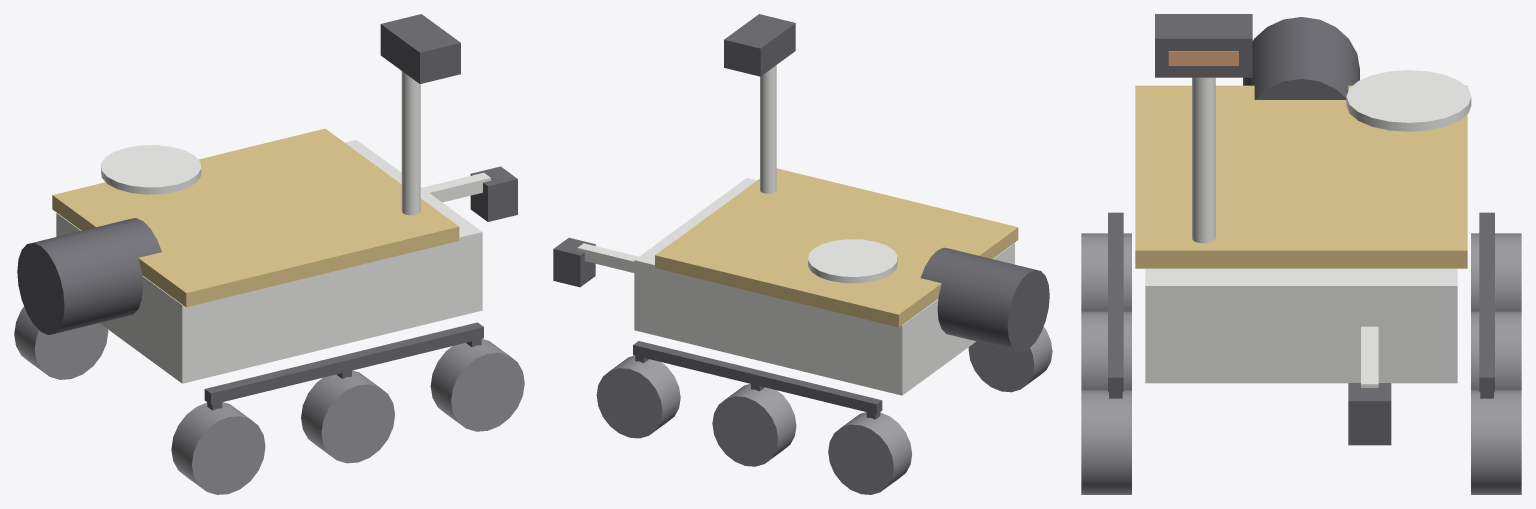
The model's file is rover.glb.
3 renders of one model, left to right at view 1: azimuth 30°, elevation 25°; view 2: azimuth 150°, elevation 25°; view 3: azimuth 270°, elevation 25°, orthographic. The views are drawn at different scales.
Visible parts, largest first — view 1: rover; view 2: rover; view 3: rover.
Part boxes in pixels (left/top/right/bottom): rover: left=14, top=14, right=524, bottom=494; rover: left=553, top=14, right=1052, bottom=494; rover: left=1081, top=14, right=1521, bottom=494.
Size of the model in its own units: 3.63 by 2.56 by 2.26.
